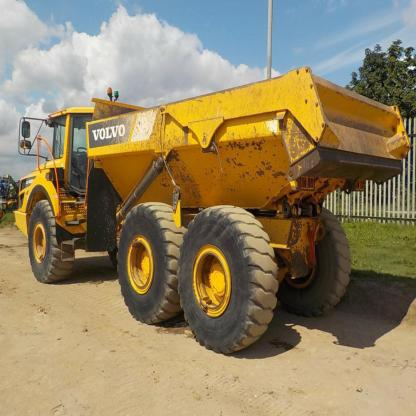dump_truck: (10, 66, 406, 352)
